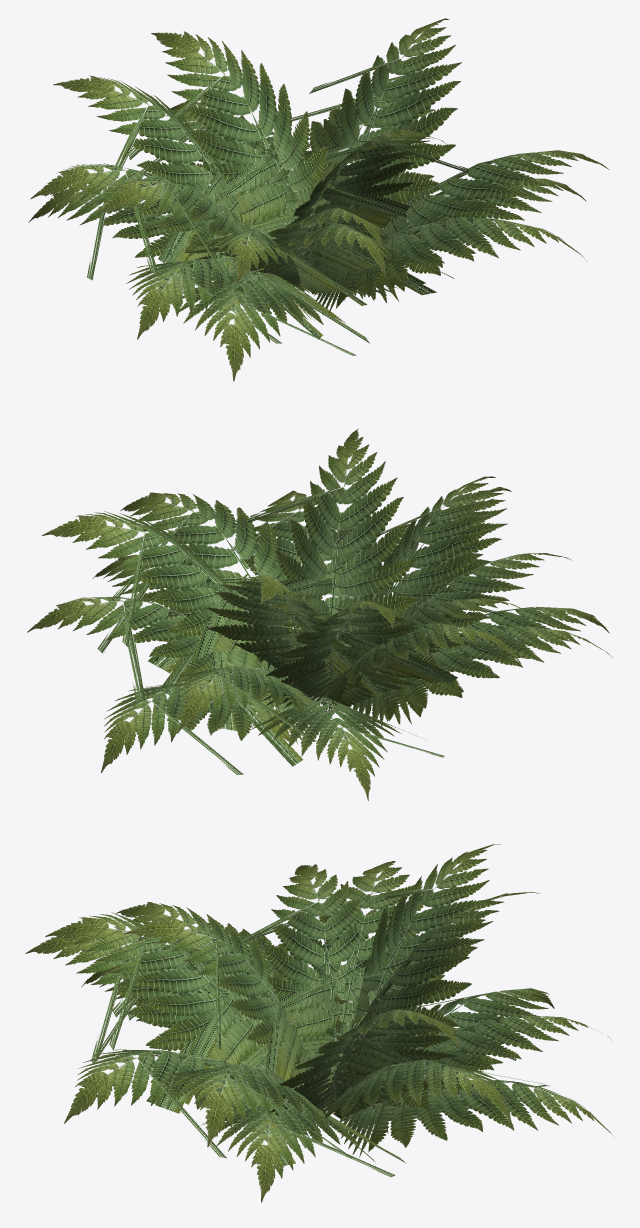
File: fern-d.glb
3 views of the same model, one above another, from view 1: azimuth 30°, elevation 25°; view 2: azimuth 150°, elevation 25°; view 3: azimuth 270°, elevation 25° (orthographic). The views are drawn at different scales.
Visible parts, largest first — view 1: fern-d; view 2: fern-d; view 3: fern-d.
Boxes of the visible parts, box(x1,y1,x2,y2) form: fern-d: box(28, 18, 608, 381); fern-d: box(27, 428, 612, 800); fern-d: box(25, 844, 612, 1202).
Size of the model in its own units: 1.78 by 0.6881 by 1.75.
Materials: 1 (1 with a texture image).
